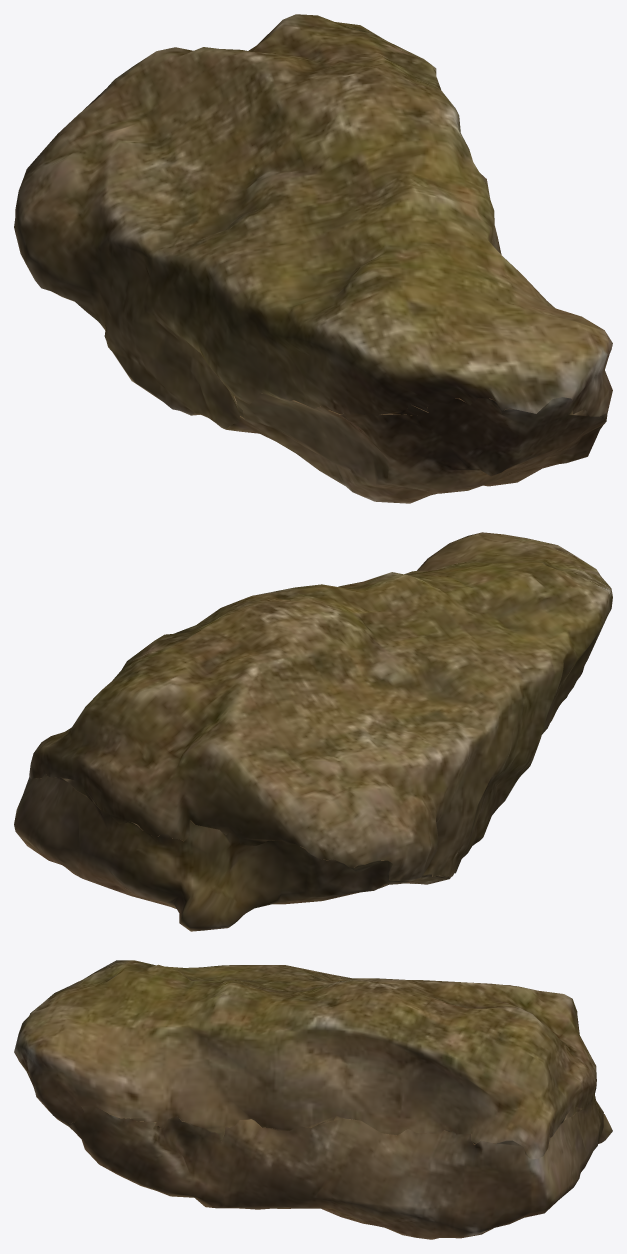
File: rock_moss_set_01_rock05.glb
The picture shows the model from 3 angles, top to bottom: view 1: azimuth 30°, elevation 25°; view 2: azimuth 150°, elevation 25°; view 3: azimuth 270°, elevation 25°; orthographic projection. The views are drawn at different scales.
Visible parts, largest first — view 1: rock_moss_set_01_rock05; view 2: rock_moss_set_01_rock05; view 3: rock_moss_set_01_rock05.
Boxes of the visible parts, bbox=[...] form: rock_moss_set_01_rock05: bbox=[14, 14, 612, 503]; rock_moss_set_01_rock05: bbox=[14, 532, 612, 931]; rock_moss_set_01_rock05: bbox=[14, 960, 612, 1239].
Size of the model in its own units: 1.82 by 1.21 by 3.
Materials: 1 (1 with a texture image).
